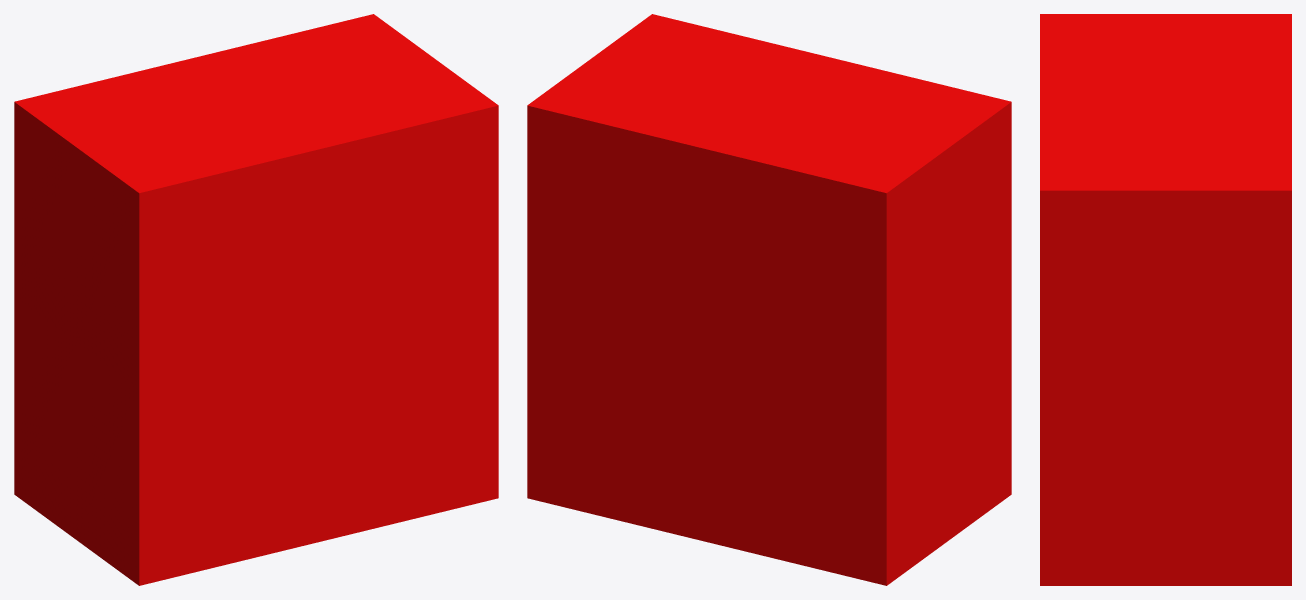
File: thoracic2_col.dae
3 views of the same model, side by side, from view 1: azimuth 30°, elevation 25°; view 2: azimuth 150°, elevation 25°; view 3: azimuth 270°, elevation 25° (orthographic).
Visible parts, largest first — view 1: node0; view 2: node0; view 3: node0.
Boxes of the visible parts, x1,y1,x2,y2 form: node0: [14, 14, 498, 585]; node0: [527, 14, 1011, 585]; node0: [1040, 14, 1291, 585].
Size of the model in its own units: 0.0676 by 0.0705 by 0.0407.
